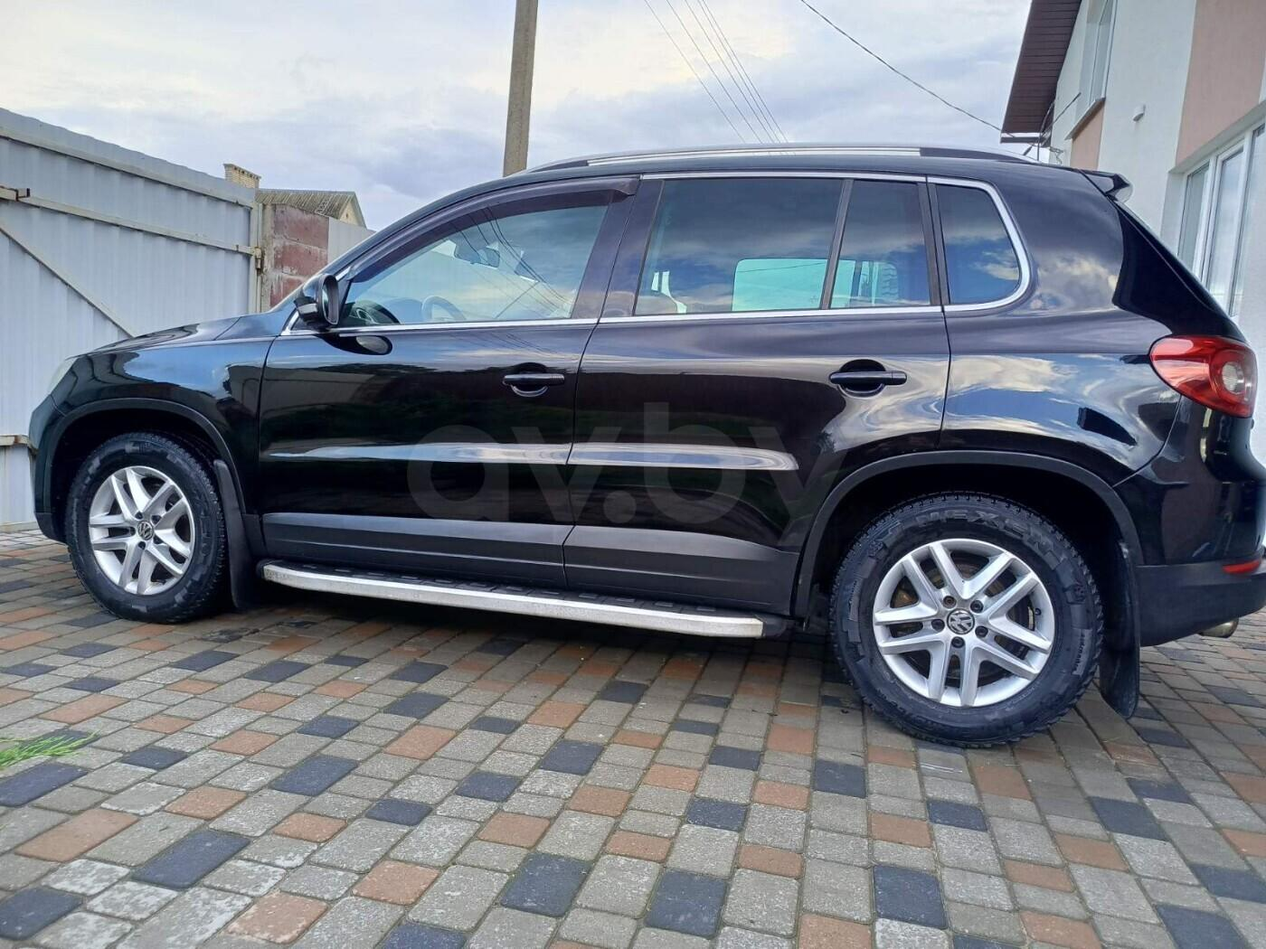Tiguan_2007-2011: (23, 145, 1266, 746)
